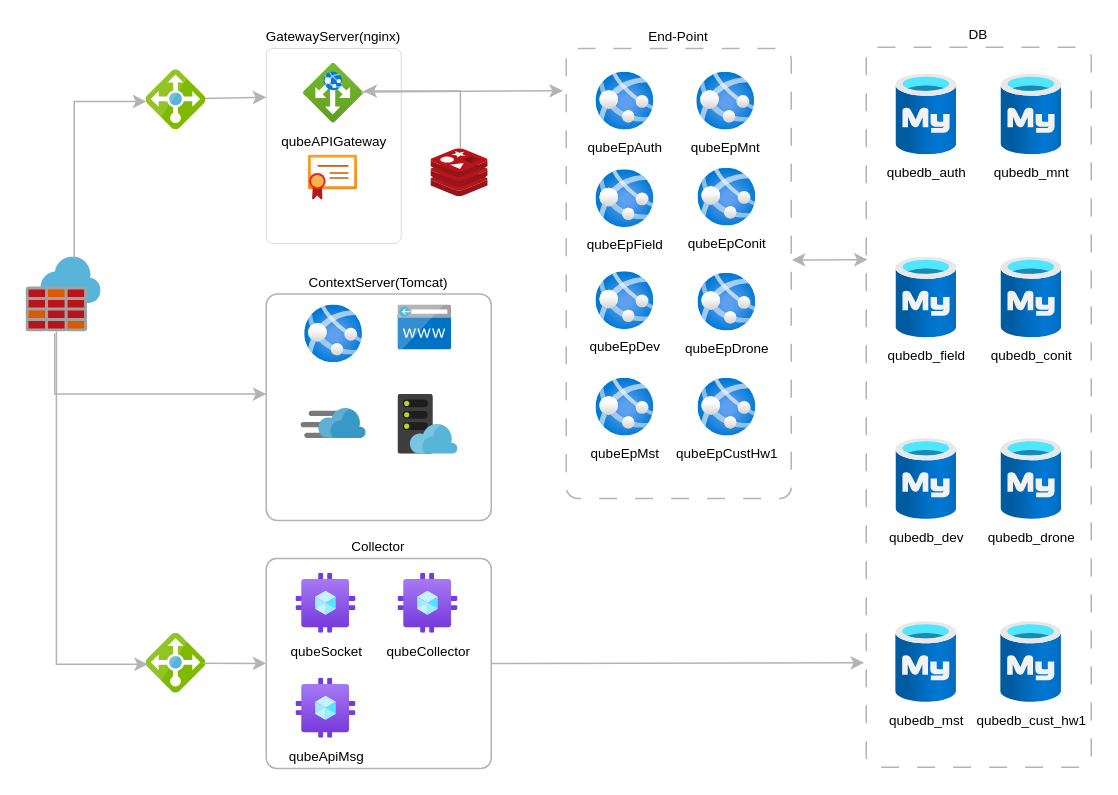
This 1118x795 diagram has some shape labels left out. Here are the shapes that lost their labels. From the top down, the centre of each, then its label:
At (176,99): "WebLB".
At (332,177): "SSL인증서".
At (459,172): "세션Redis".
At (333,333): "UBIForm Context".
At (424,327): "Help Context".
At (333,423): "Image Context".
At (428,424): "NAS Context".
At (176,663): "CollectorLB".
